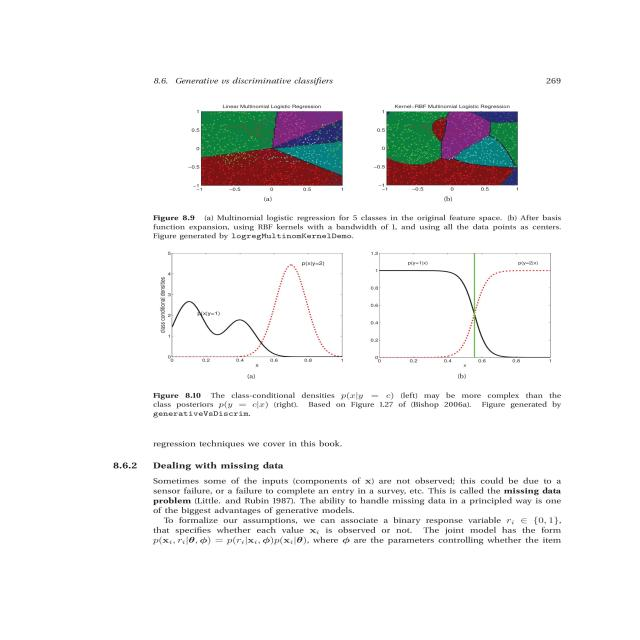diagram: (104, 66, 593, 433)
